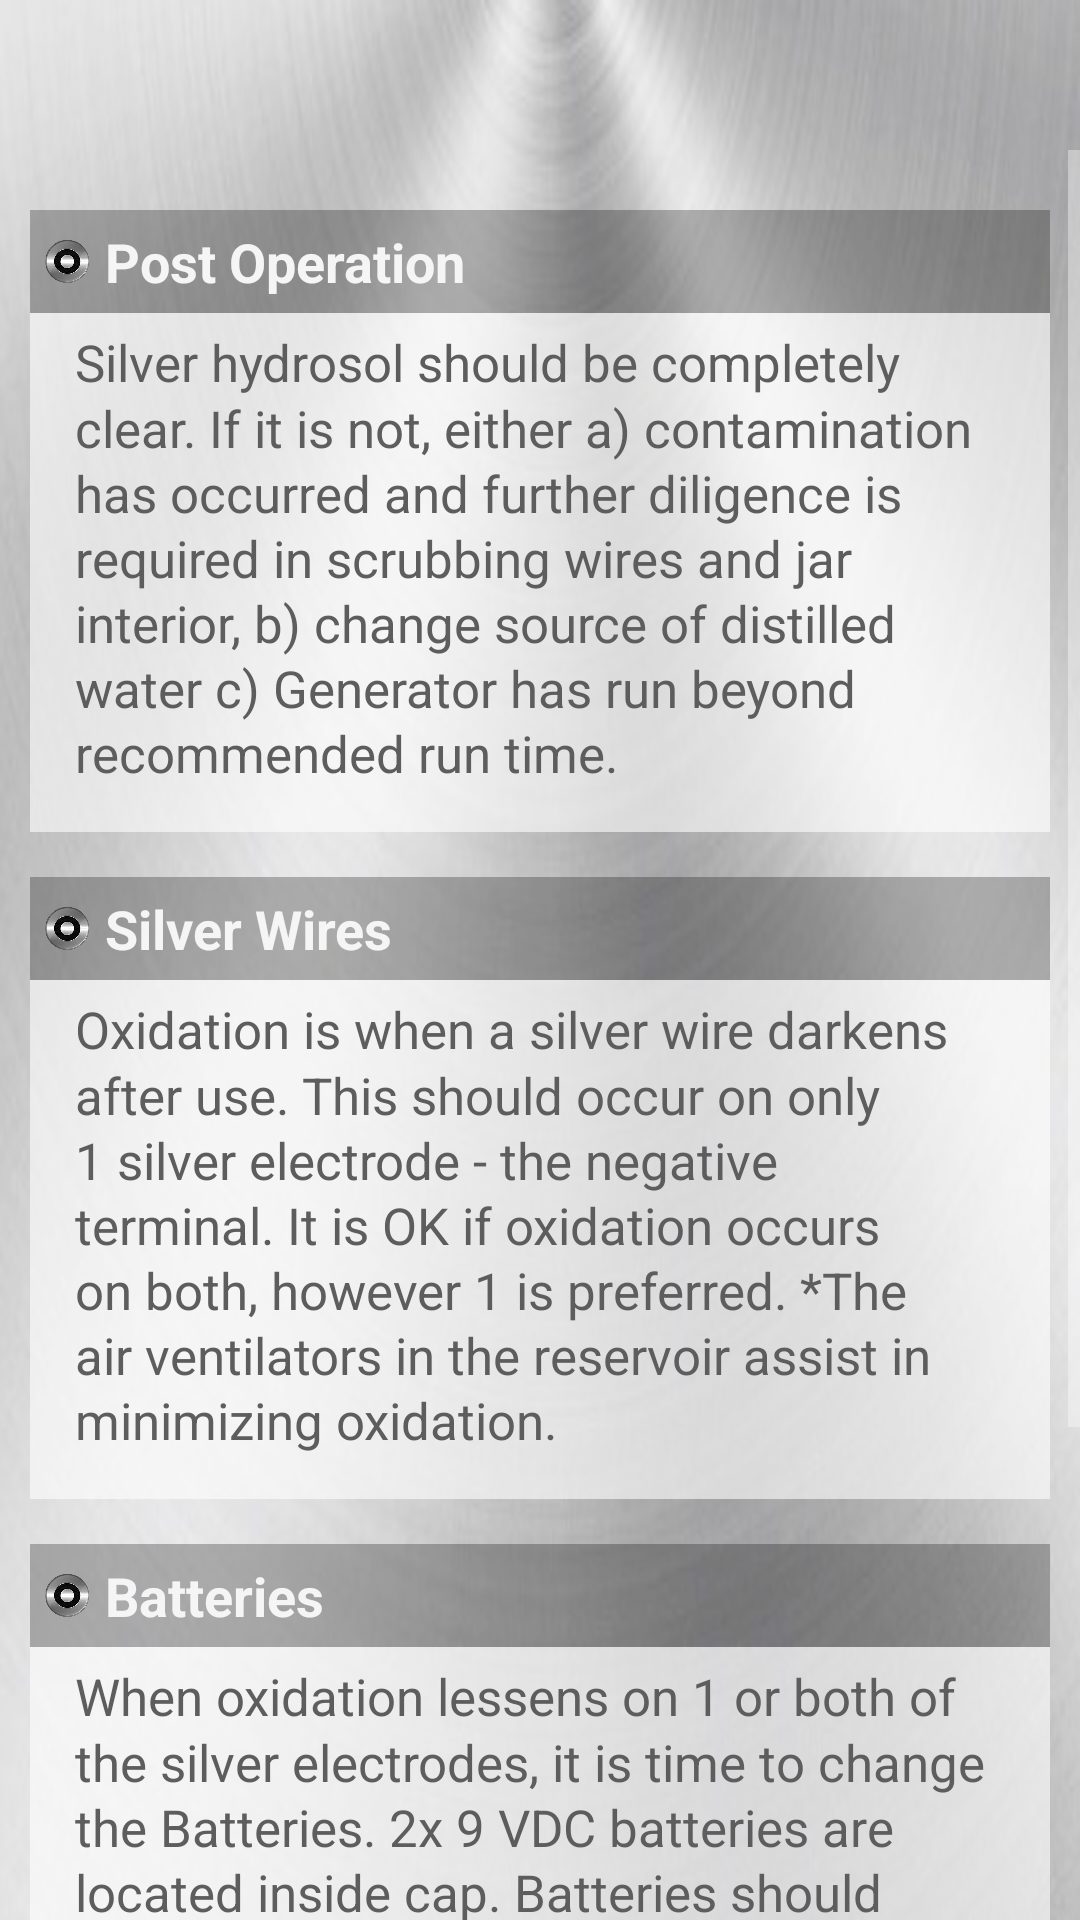

Named icons in this screenshot (1080px×1920px) and their bounding boxes, (x1, y1, x2, y2):
target: (45, 240, 89, 283), (45, 907, 89, 950), (45, 1574, 89, 1617)
